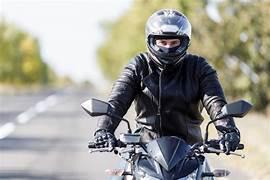Helmet: (145, 8, 190, 69)
